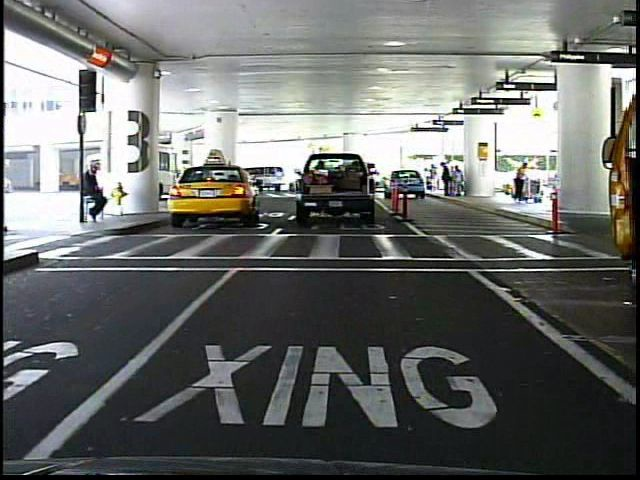person: (83, 161, 110, 229), (509, 158, 530, 208)
